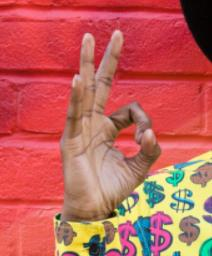left: (58, 26, 161, 213)
